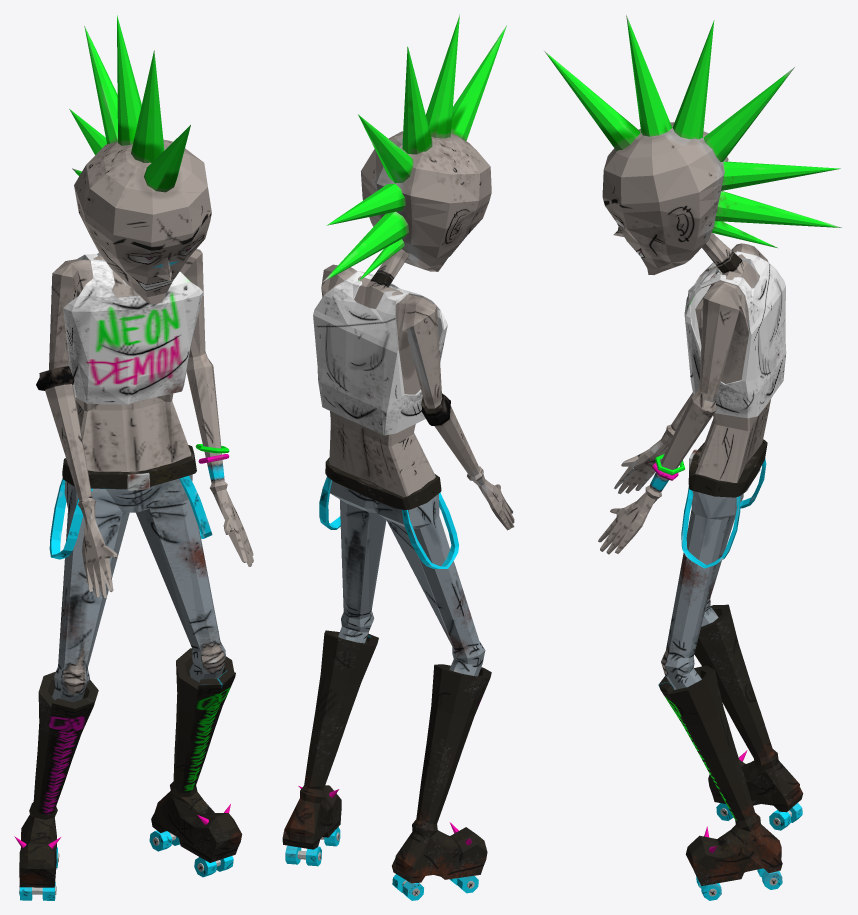
File: punkAnimation_000015.obj
3 views of the same model, side by side, from view 1: azimuth 30°, elevation 25°; view 2: azimuth 150°, elevation 25°; view 3: azimuth 270°, elevation 25° (orthographic). The views are drawn at different scales.
Visible parts, largest first — view 1: Cube.004_Cube.003; view 2: Cube.004_Cube.003; view 3: Cube.004_Cube.003.
Boxes of the visible parts, x1=… form: Cube.004_Cube.003: x1=14, y1=15, x2=253, y2=900; Cube.004_Cube.003: x1=282, y1=14, x2=514, y2=900; Cube.004_Cube.003: x1=544, y1=15, x2=842, y2=900.
Size of the model in its own units: 1.82 by 7.37 by 2.41.
